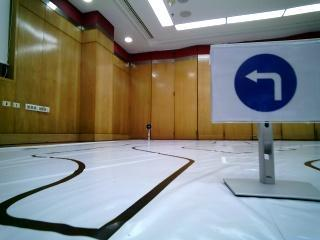left: (223, 53, 319, 117)
